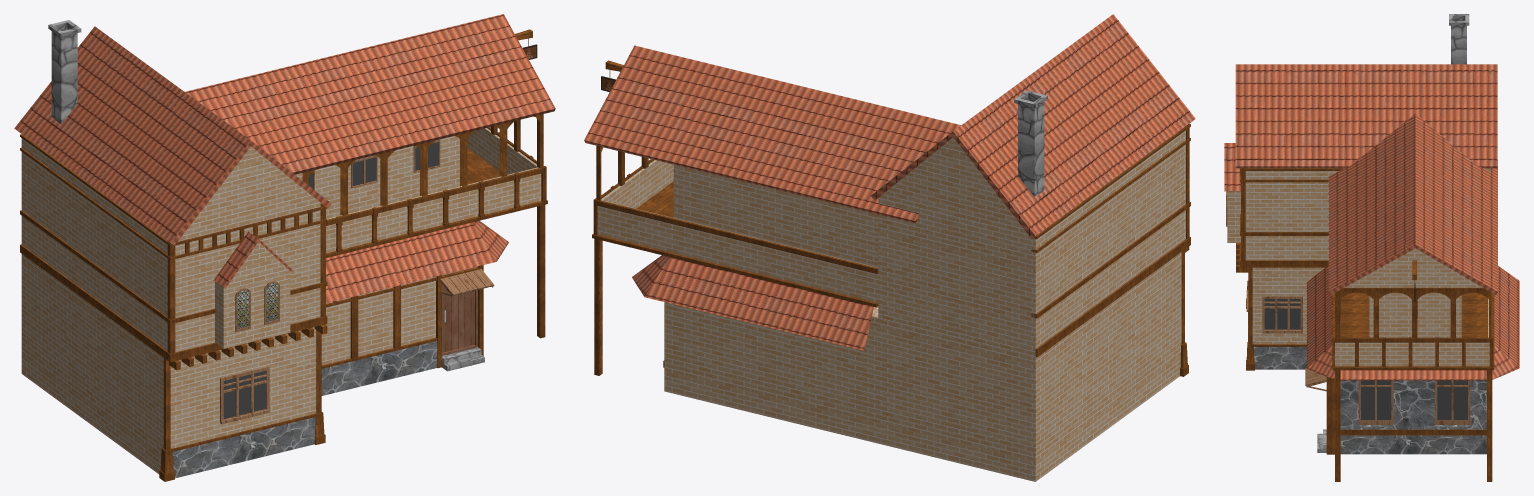
The model's file is Cafeteria.fbx.
The picture shows the model from 3 angles, left to right: view 1: azimuth 30°, elevation 25°; view 2: azimuth 150°, elevation 25°; view 3: azimuth 270°, elevation 25°; orthographic projection. The views are drawn at different scales.
Parts seen in each view (by area): view 1: Cube.013, Cube.054, Cube.055, Cube.058, Cube.024, Cube.016, Cube.060, Cube.059, Cube.057, Cube.035; view 2: Cube.013, Cube.054, Cube.055, Cube.058, Cube.016; view 3: Cube.054, Cube.013, Cube.055, Cube.058, Cube.024, Cube.016, Cube.057.
Part boxes in pixels (left/top/right/bottom): Cube.013: left=21, top=128, right=541, bottom=478; Cube.054: left=14, top=14, right=555, bottom=288; Cube.055: left=20, top=29, right=547, bottom=481; Cube.058: left=326, top=220, right=508, bottom=303; Cube.024: left=220, top=139, right=440, bottom=424; Cube.016: left=48, top=20, right=81, bottom=123; Cube.060: left=442, top=284, right=477, bottom=355; Cube.059: left=235, top=281, right=279, bottom=332; Cube.057: left=440, top=269, right=494, bottom=296; Cube.035: left=442, top=347, right=484, bottom=371; Cube.013: left=597, top=130, right=1185, bottom=481; Cube.054: left=584, top=14, right=1195, bottom=238; Cube.055: left=592, top=60, right=1190, bottom=376; Cube.058: left=632, top=255, right=873, bottom=350; Cube.016: left=1014, top=90, right=1047, bottom=197; Cube.054: left=1224, top=64, right=1497, bottom=294; Cube.013: left=1227, top=168, right=1491, bottom=454; Cube.055: left=1236, top=167, right=1494, bottom=481; Cube.058: left=1307, top=266, right=1519, bottom=380; Cube.024: left=1246, top=290, right=1470, bottom=424; Cube.016: left=1449, top=14, right=1469, bottom=64; Cube.057: left=1305, top=368, right=1326, bottom=391.
Size of the model in its own units: 1172 by 841 by 756.
